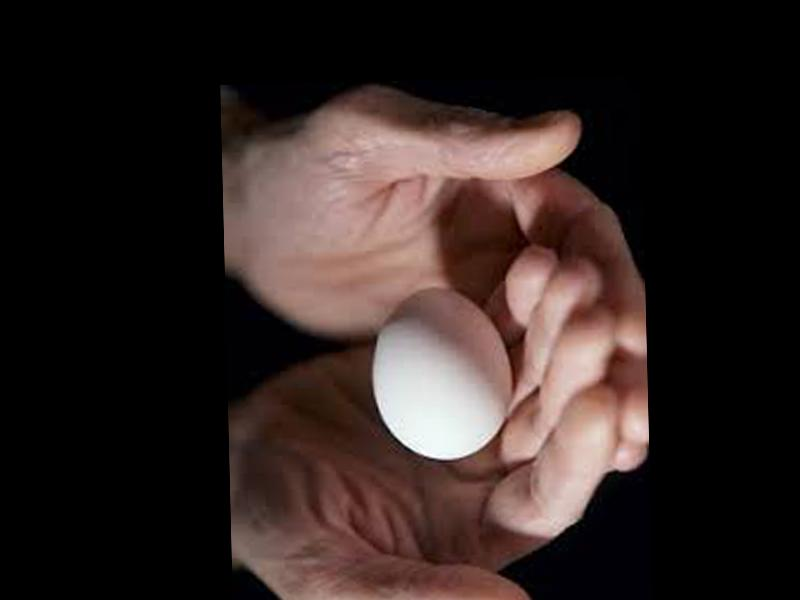Eggs: (369, 287, 512, 462)
